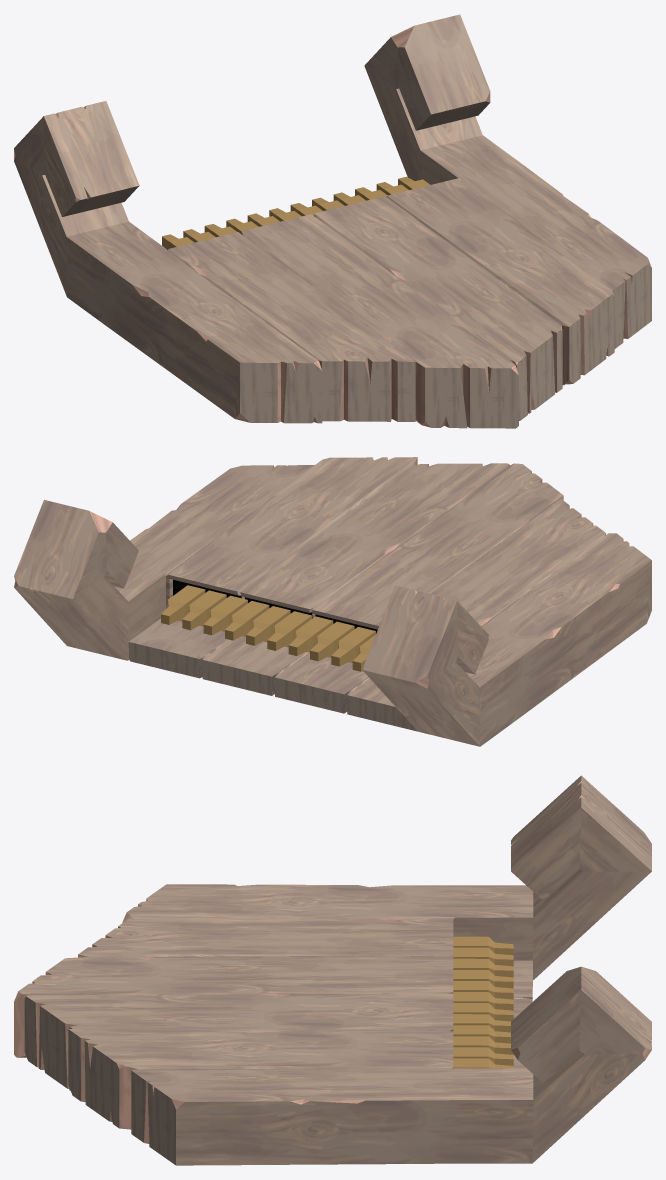
File: Obj_Elevator.fbx
The picture shows the model from 3 angles, top to bottom: view 1: azimuth 30°, elevation 25°; view 2: azimuth 150°, elevation 25°; view 3: azimuth 270°, elevation 25°; orthographic projection. The views are drawn at different scales.
Parts seen in each view (by area): view 1: Plane; view 2: Plane; view 3: Plane.
Part boxes in pixels (<box>): Plane: <box>14,14,651,428</box>; Plane: <box>14,457,651,746</box>; Plane: <box>14,775,651,1165</box>.
Size of the model in its own units: 4.15 by 1.59 by 5.21.
3 materials, 1 textured.
